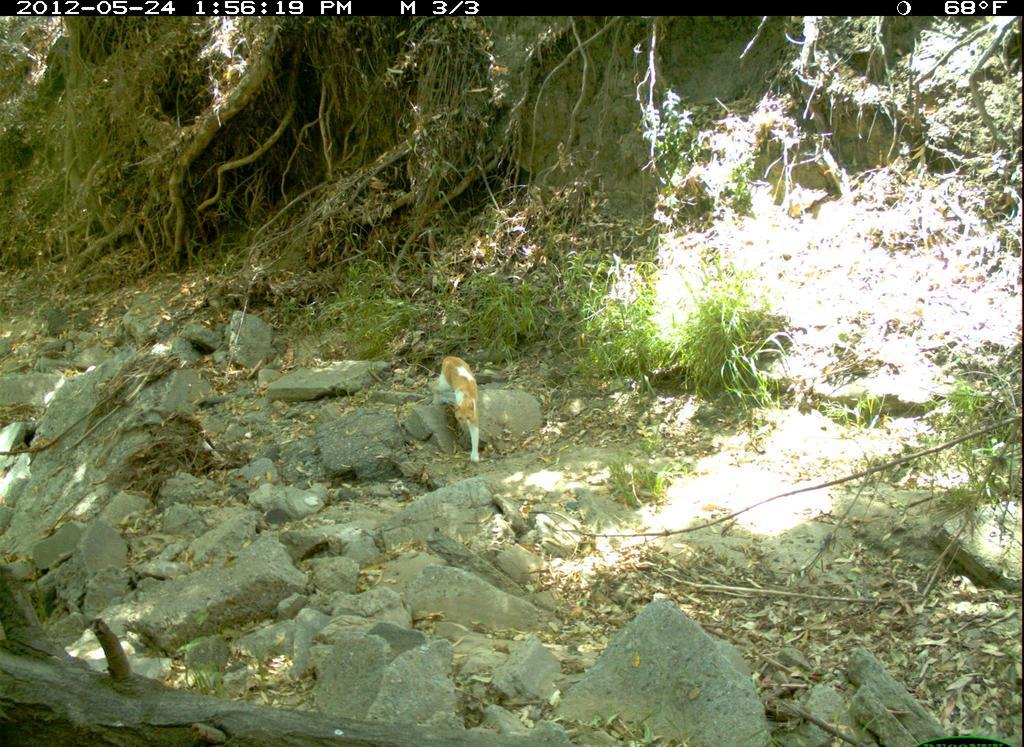cat: (337, 287, 584, 495)
